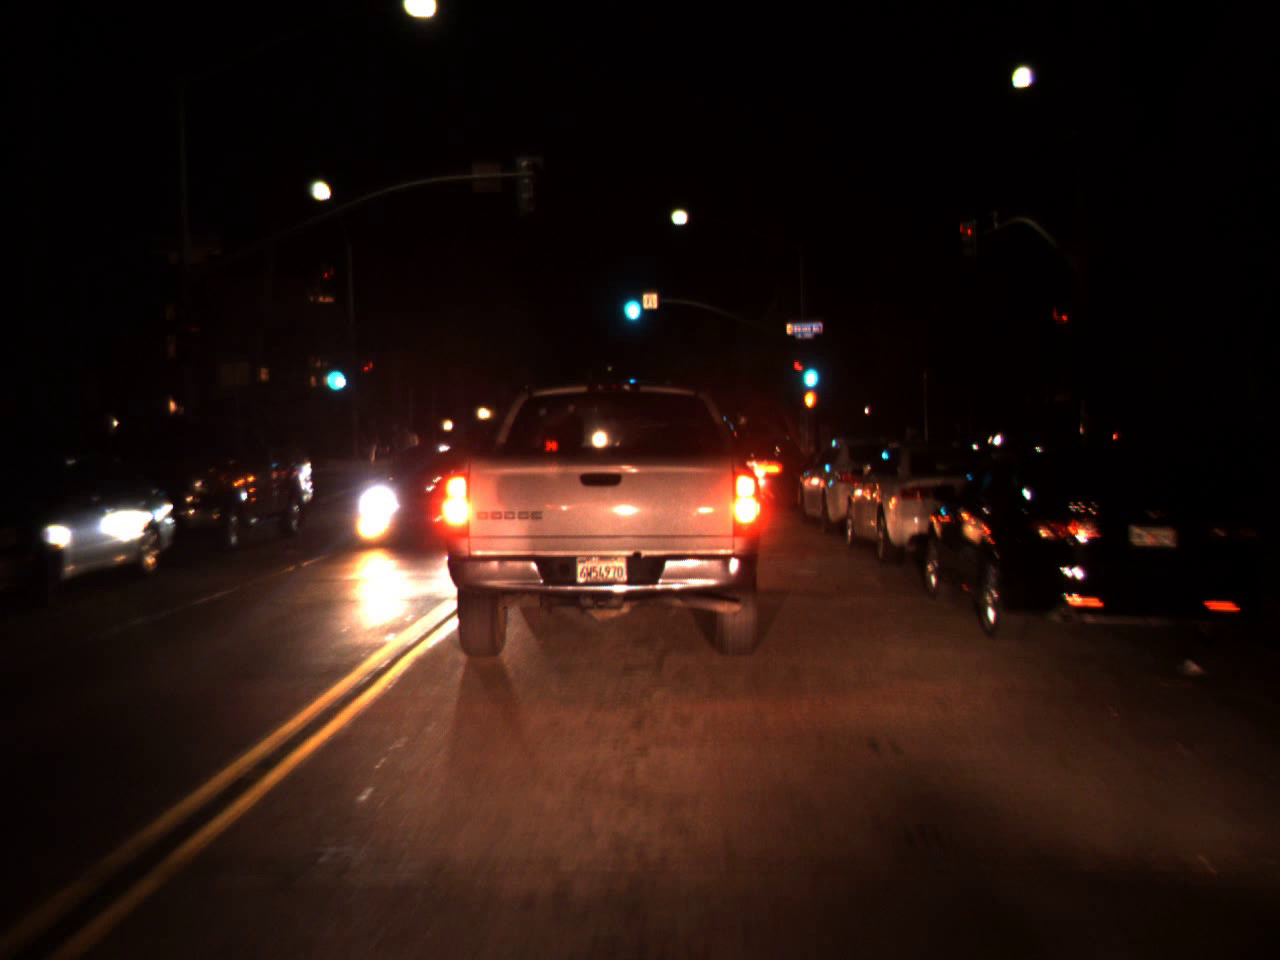go: (617, 276, 644, 327), (321, 349, 348, 397), (797, 344, 822, 395)
